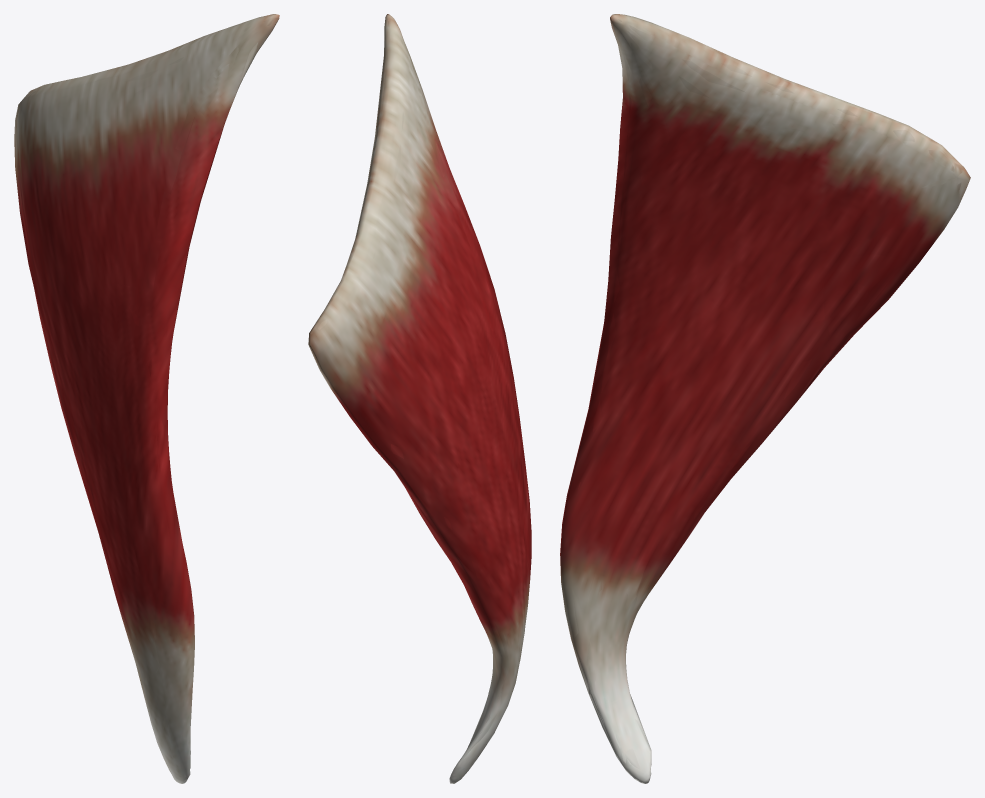
File: R Tensor Fasciae Latae.fbx
The picture shows the model from 3 angles, left to right: view 1: azimuth 30°, elevation 25°; view 2: azimuth 150°, elevation 25°; view 3: azimuth 270°, elevation 25°; orthographic projection. The views are drawn at different scales.
Parts seen in each view (by area): view 1: R Tensor Fasciae Latae, R Tensor Fasciae Latae low, R Tensor Fasciae Latae high; view 2: R Tensor Fasciae Latae, R Tensor Fasciae Latae low, R Tensor Fasciae Latae high; view 3: R Tensor Fasciae Latae high, R Tensor Fasciae Latae, R Tensor Fasciae Latae low.
Boxes of the visible parts, x1,y1,x2,y2 form: R Tensor Fasciae Latae: [14, 14, 279, 783]; R Tensor Fasciae Latae low: [18, 15, 278, 783]; R Tensor Fasciae Latae high: [26, 14, 275, 776]; R Tensor Fasciae Latae: [308, 14, 531, 783]; R Tensor Fasciae Latae low: [309, 17, 530, 782]; R Tensor Fasciae Latae high: [312, 15, 530, 780]; R Tensor Fasciae Latae high: [561, 14, 961, 783]; R Tensor Fasciae Latae: [560, 14, 970, 783]; R Tensor Fasciae Latae low: [561, 14, 970, 780].
Size of the model in its own units: 2.57 by 12.76 by 5.86.
